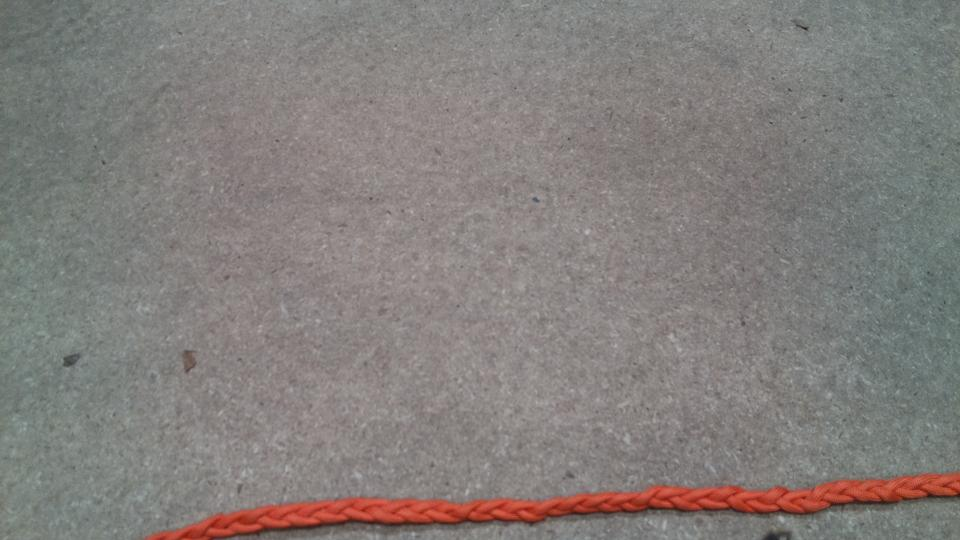rope: (165, 472, 960, 540)
